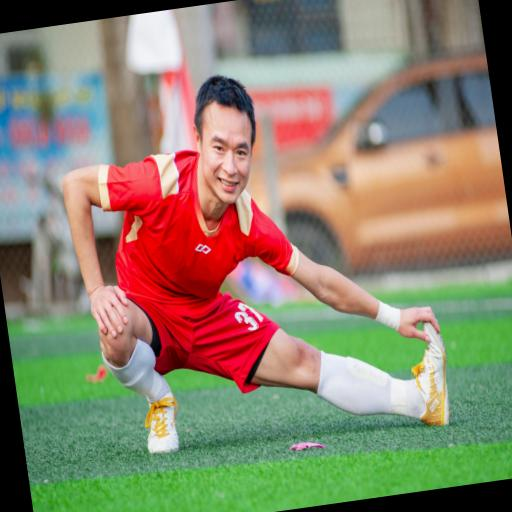shoe: (412, 322, 450, 425), (145, 394, 179, 453)
